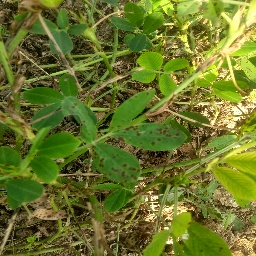GroundNut_Leaf: (89, 143, 138, 189), (110, 88, 154, 132), (211, 165, 256, 203), (194, 221, 234, 255), (109, 4, 140, 32), (39, 136, 80, 157), (68, 100, 94, 133), (156, 126, 187, 152), (7, 180, 43, 200), (24, 87, 64, 105), (32, 109, 67, 128), (214, 82, 249, 100), (33, 156, 57, 179), (170, 213, 192, 235), (142, 11, 166, 30), (1, 144, 19, 169), (104, 193, 128, 211), (54, 30, 71, 53), (128, 32, 146, 53), (133, 67, 154, 85), (159, 75, 176, 92), (137, 55, 162, 65)
